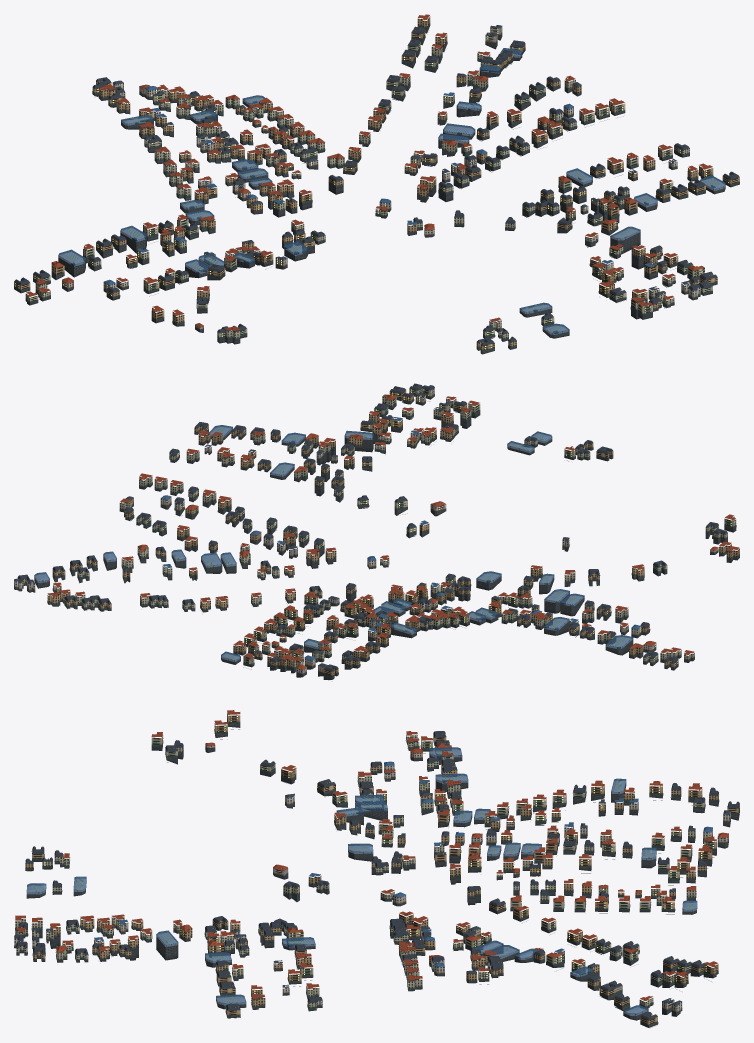
File: osm_buildings_T_E00_N02_Q2.glb
The picture shows the model from 3 angles, top to bottom: view 1: azimuth 30°, elevation 25°; view 2: azimuth 150°, elevation 25°; view 3: azimuth 270°, elevation 25°; orthographic projection. The views are drawn at different scales.
Visible parts, largest first — view 1: OSM_T_E00_N02_Q2_foundation, OSM_T_E00_N02_Q2_wall_french_ochre, OSM_T_E00_N02_Q2_wall_cream_stucco, OSM_T_E00_N02_Q2_roof_terracotta, OSM_T_E00_N02_Q2_roof_mansard_slate, OSM_T_E00_N02_Q2_greenhouse_blend, OSM_T_E00_N02_Q2_roof_mansard_deck, OSM_T_E00_N02_Q2_roof_mint_metal, OSM_T_E00_N02_Q2_trim_cornice, OSM_T_E00_N02_Q2_wall_warm_white, OSM_T_E00_N02_Q2_balcony_railing, OSM_T_E00_N02_Q2_window_emissive_warm (+2 smaller); view 2: OSM_T_E00_N02_Q2_foundation, OSM_T_E00_N02_Q2_wall_french_ochre, OSM_T_E00_N02_Q2_wall_cream_stucco, OSM_T_E00_N02_Q2_roof_terracotta, OSM_T_E00_N02_Q2_roof_mansard_slate, OSM_T_E00_N02_Q2_greenhouse_blend, OSM_T_E00_N02_Q2_roof_mansard_deck, OSM_T_E00_N02_Q2_roof_mint_metal, OSM_T_E00_N02_Q2_trim_cornice, OSM_T_E00_N02_Q2_wall_warm_white, OSM_T_E00_N02_Q2_balcony_railing, OSM_T_E00_N02_Q2_wall_pastel_sand (+2 smaller); view 3: OSM_T_E00_N02_Q2_foundation, OSM_T_E00_N02_Q2_wall_french_ochre, OSM_T_E00_N02_Q2_wall_cream_stucco, OSM_T_E00_N02_Q2_roof_terracotta, OSM_T_E00_N02_Q2_roof_mansard_slate, OSM_T_E00_N02_Q2_greenhouse_blend, OSM_T_E00_N02_Q2_roof_mansard_deck, OSM_T_E00_N02_Q2_roof_mint_metal, OSM_T_E00_N02_Q2_trim_cornice, OSM_T_E00_N02_Q2_balcony_railing, OSM_T_E00_N02_Q2_window_emissive_warm, OSM_T_E00_N02_Q2_wall_warm_white (+2 smaller).
Boxes of the visible parts, x1=… form: OSM_T_E00_N02_Q2_foundation: x1=14, y1=23, x2=739, y2=354; OSM_T_E00_N02_Q2_wall_french_ochre: x1=14, y1=16, x2=739, y2=350; OSM_T_E00_N02_Q2_wall_cream_stucco: x1=25, y1=42, x2=712, y2=338; OSM_T_E00_N02_Q2_roof_terracotta: x1=26, y1=14, x2=712, y2=330; OSM_T_E00_N02_Q2_roof_mansard_slate: x1=14, y1=25, x2=739, y2=345; OSM_T_E00_N02_Q2_greenhouse_blend: x1=58, y1=48, x2=725, y2=334; OSM_T_E00_N02_Q2_roof_mansard_deck: x1=16, y1=26, x2=737, y2=343; OSM_T_E00_N02_Q2_roof_mint_metal: x1=14, y1=24, x2=739, y2=351; OSM_T_E00_N02_Q2_trim_cornice: x1=17, y1=18, x2=739, y2=348; OSM_T_E00_N02_Q2_wall_warm_white: x1=62, y1=33, x2=700, y2=329; OSM_T_E00_N02_Q2_balcony_railing: x1=14, y1=19, x2=728, y2=347; OSM_T_E00_N02_Q2_window_emissive_warm: x1=15, y1=20, x2=718, y2=349; OSM_T_E00_N02_Q2_foundation: x1=14, y1=392, x2=739, y2=679; OSM_T_E00_N02_Q2_wall_french_ochre: x1=17, y1=388, x2=739, y2=675; OSM_T_E00_N02_Q2_wall_cream_stucco: x1=53, y1=386, x2=736, y2=668; OSM_T_E00_N02_Q2_roof_terracotta: x1=47, y1=386, x2=739, y2=669; OSM_T_E00_N02_Q2_roof_mansard_slate: x1=14, y1=384, x2=727, y2=671; OSM_T_E00_N02_Q2_greenhouse_blend: x1=34, y1=425, x2=633, y2=661; OSM_T_E00_N02_Q2_roof_mansard_deck: x1=19, y1=383, x2=725, y2=669; OSM_T_E00_N02_Q2_roof_mint_metal: x1=25, y1=393, x2=737, y2=677; OSM_T_E00_N02_Q2_trim_cornice: x1=17, y1=386, x2=739, y2=680; OSM_T_E00_N02_Q2_wall_warm_white: x1=27, y1=388, x2=718, y2=666; OSM_T_E00_N02_Q2_balcony_railing: x1=49, y1=390, x2=731, y2=664; OSM_T_E00_N02_Q2_wall_pastel_sand: x1=14, y1=395, x2=641, y2=673; OSM_T_E00_N02_Q2_foundation: x1=14, y1=719, x2=739, y2=1027; OSM_T_E00_N02_Q2_wall_french_ochre: x1=19, y1=712, x2=739, y2=1025; OSM_T_E00_N02_Q2_wall_cream_stucco: x1=15, y1=734, x2=716, y2=1007; OSM_T_E00_N02_Q2_roof_terracotta: x1=15, y1=710, x2=728, y2=1000; OSM_T_E00_N02_Q2_roof_mansard_slate: x1=14, y1=731, x2=739, y2=1020; OSM_T_E00_N02_Q2_greenhouse_blend: x1=26, y1=747, x2=697, y2=1015; OSM_T_E00_N02_Q2_roof_mansard_deck: x1=15, y1=731, x2=738, y2=1017; OSM_T_E00_N02_Q2_roof_mint_metal: x1=14, y1=724, x2=738, y2=1025; OSM_T_E00_N02_Q2_trim_cornice: x1=15, y1=729, x2=738, y2=1027; OSM_T_E00_N02_Q2_balcony_railing: x1=27, y1=717, x2=727, y2=1009; OSM_T_E00_N02_Q2_window_emissive_warm: x1=29, y1=716, x2=713, y2=1015; OSM_T_E00_N02_Q2_wall_warm_white: x1=14, y1=744, x2=712, y2=1009.
Size of the model in its own units: 975 by 95.2 by 958.
Materials: 16 (16 with a texture image).
